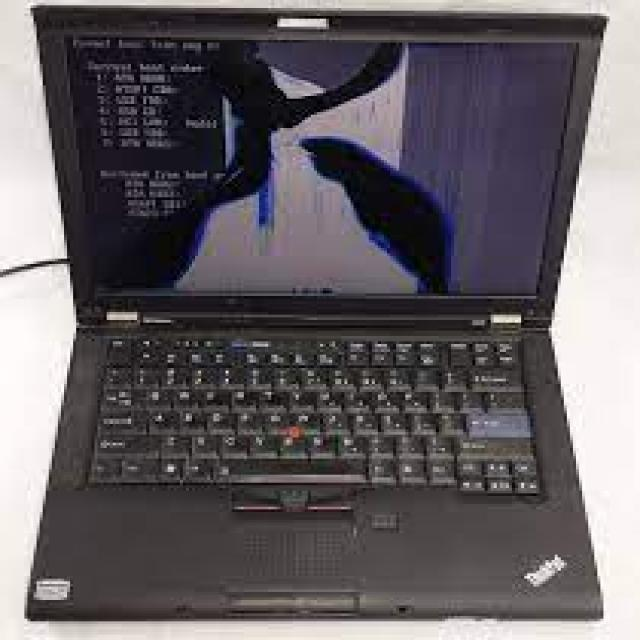Screen cracks: (128, 45, 406, 296), (305, 133, 463, 288)
